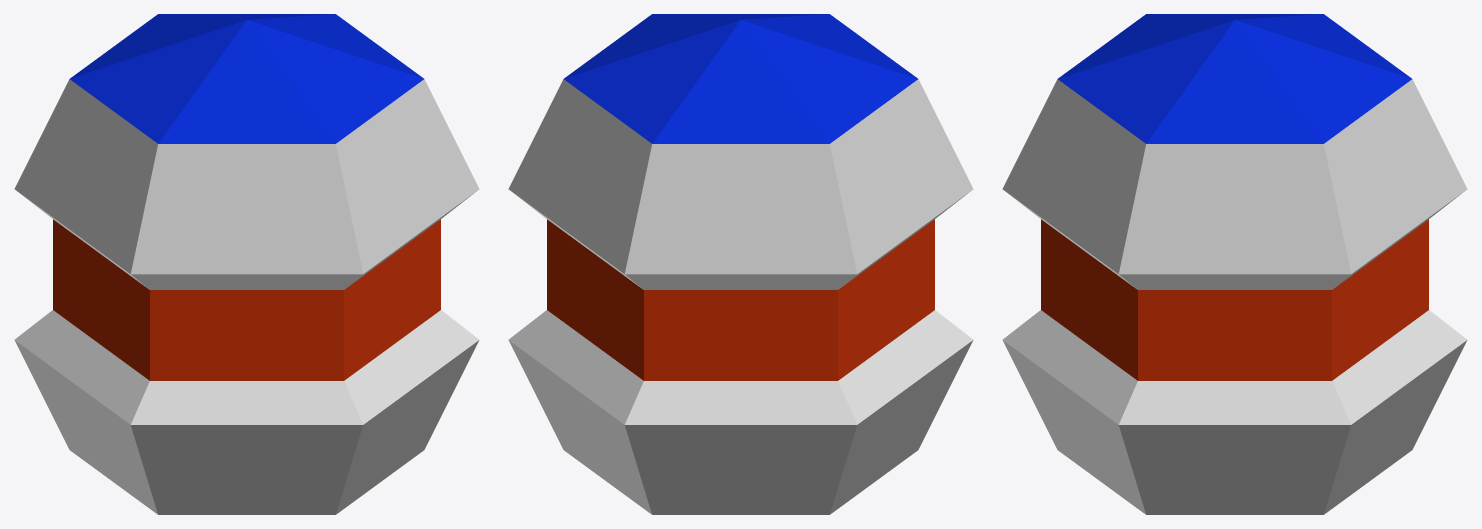
File: grenade.fbx
3 renders of one model, left to right at view 1: azimuth 30°, elevation 25°; view 2: azimuth 150°, elevation 25°; view 3: azimuth 270°, elevation 25°, orthographic.
Parts seen in each view (by area): view 1: Sphere; view 2: Sphere; view 3: Sphere.
Boxes of the visible parts, <box> form: Sphere: <box>14,14,479,514</box>; Sphere: <box>508,14,973,514</box>; Sphere: <box>1002,14,1467,514</box>.
Bounding box in the file's own units: 173 × 232 × 200.
